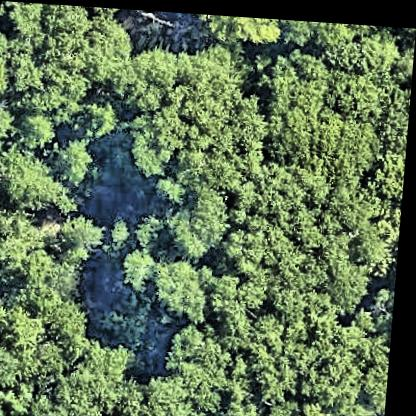tree-top: (226, 154, 386, 311), (124, 35, 268, 183), (258, 56, 389, 171), (7, 1, 139, 112), (250, 301, 372, 394), (58, 336, 151, 416), (271, 14, 396, 62), (11, 282, 84, 359), (165, 316, 243, 388), (163, 179, 233, 258), (374, 84, 412, 225), (149, 249, 216, 319), (0, 150, 73, 214), (187, 10, 287, 51), (55, 107, 110, 177), (120, 117, 181, 180), (139, 370, 209, 416), (49, 131, 99, 187), (60, 209, 110, 264), (8, 107, 61, 152), (116, 242, 161, 294), (76, 94, 122, 143), (0, 207, 38, 265), (364, 344, 395, 415), (269, 397, 367, 416), (272, 14, 325, 46), (223, 385, 274, 416), (0, 34, 18, 113), (0, 342, 30, 389), (106, 215, 137, 255), (0, 288, 5, 346), (0, 384, 9, 416)
